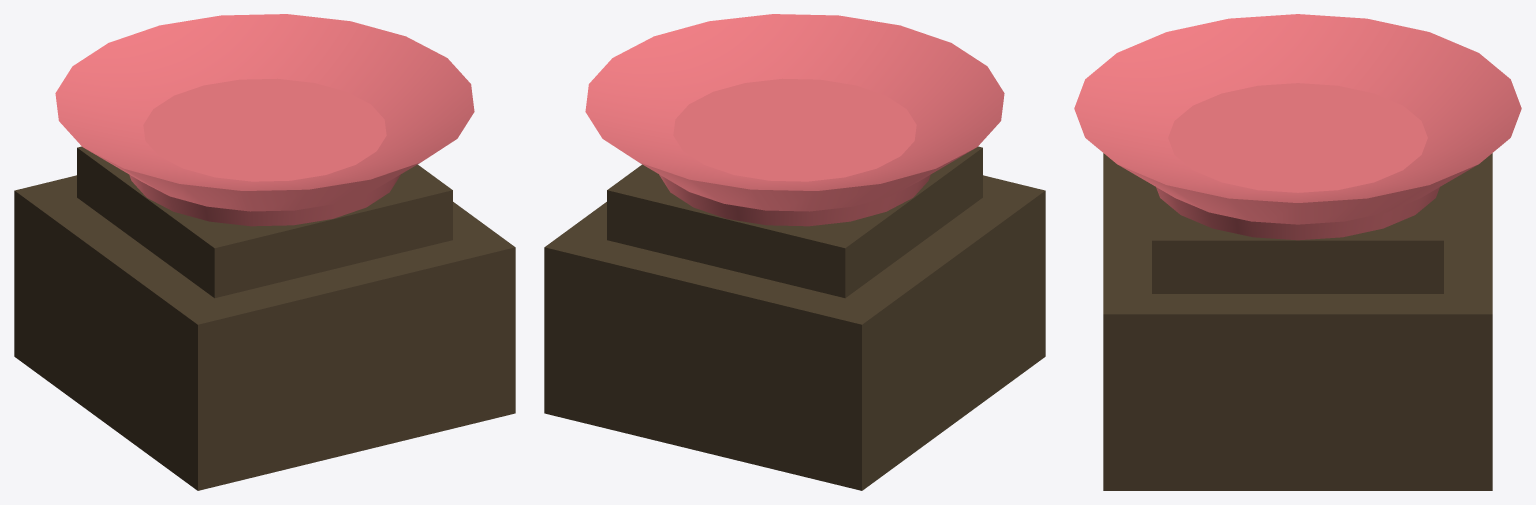
The model's file is platered.obj.
The picture shows the model from 3 angles, left to right: view 1: azimuth 30°, elevation 25°; view 2: azimuth 150°, elevation 25°; view 3: azimuth 270°, elevation 25°; orthographic projection. The views are drawn at different scales.
Visible parts, largest first — view 1: plate3:polySurface3; view 2: plate3:polySurface3; view 3: plate3:polySurface3.
Part boxes in pixels (x1,y1,x2,y2): plate3:polySurface3: (14,14,515,490); plate3:polySurface3: (544,14,1045,490); plate3:polySurface3: (1074,14,1521,490).
Size of the model in its own units: 1.15 by 0.85 by 1.15.
2 materials, 2 textured.
